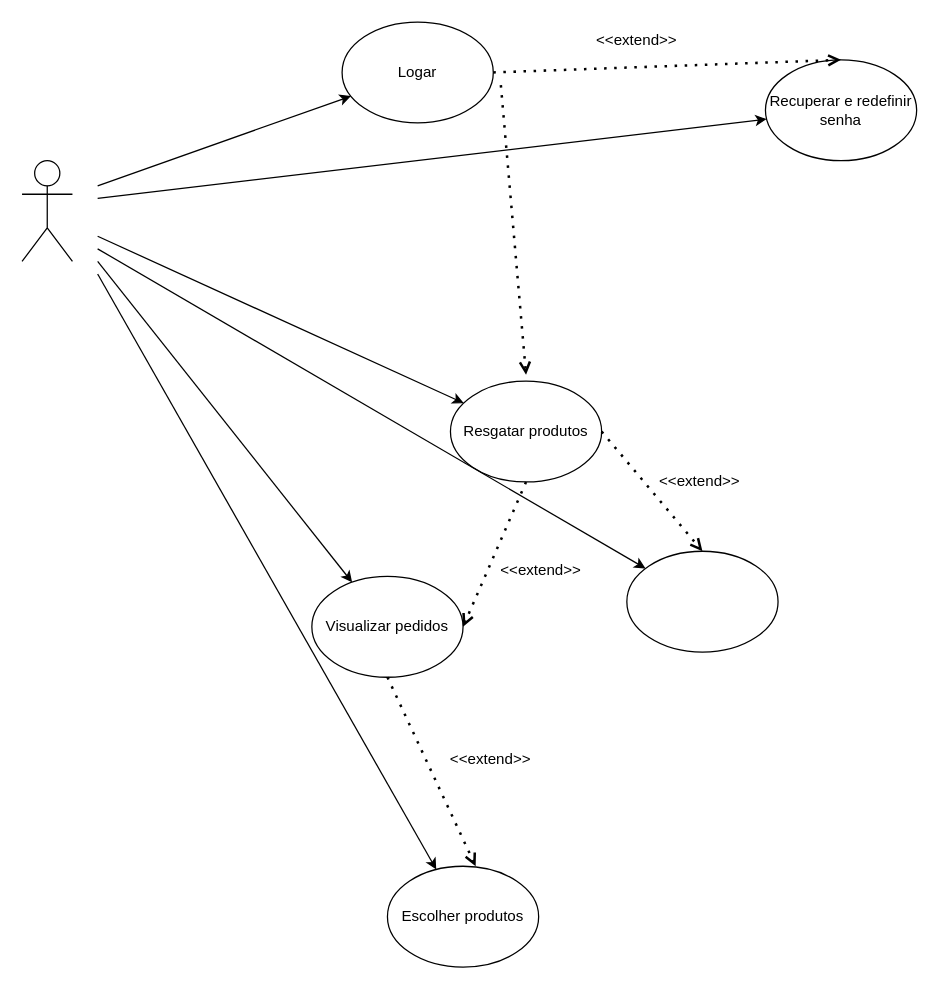
Some shapes in this 939 by 989 pixel diagram are drawn without their labels. Here are the shapes that lost their labels. From the top down, the box of each, then its label:
(21, 159, 72, 261): Cliente
(626, 550, 778, 652): Visualizar historico de resgates
